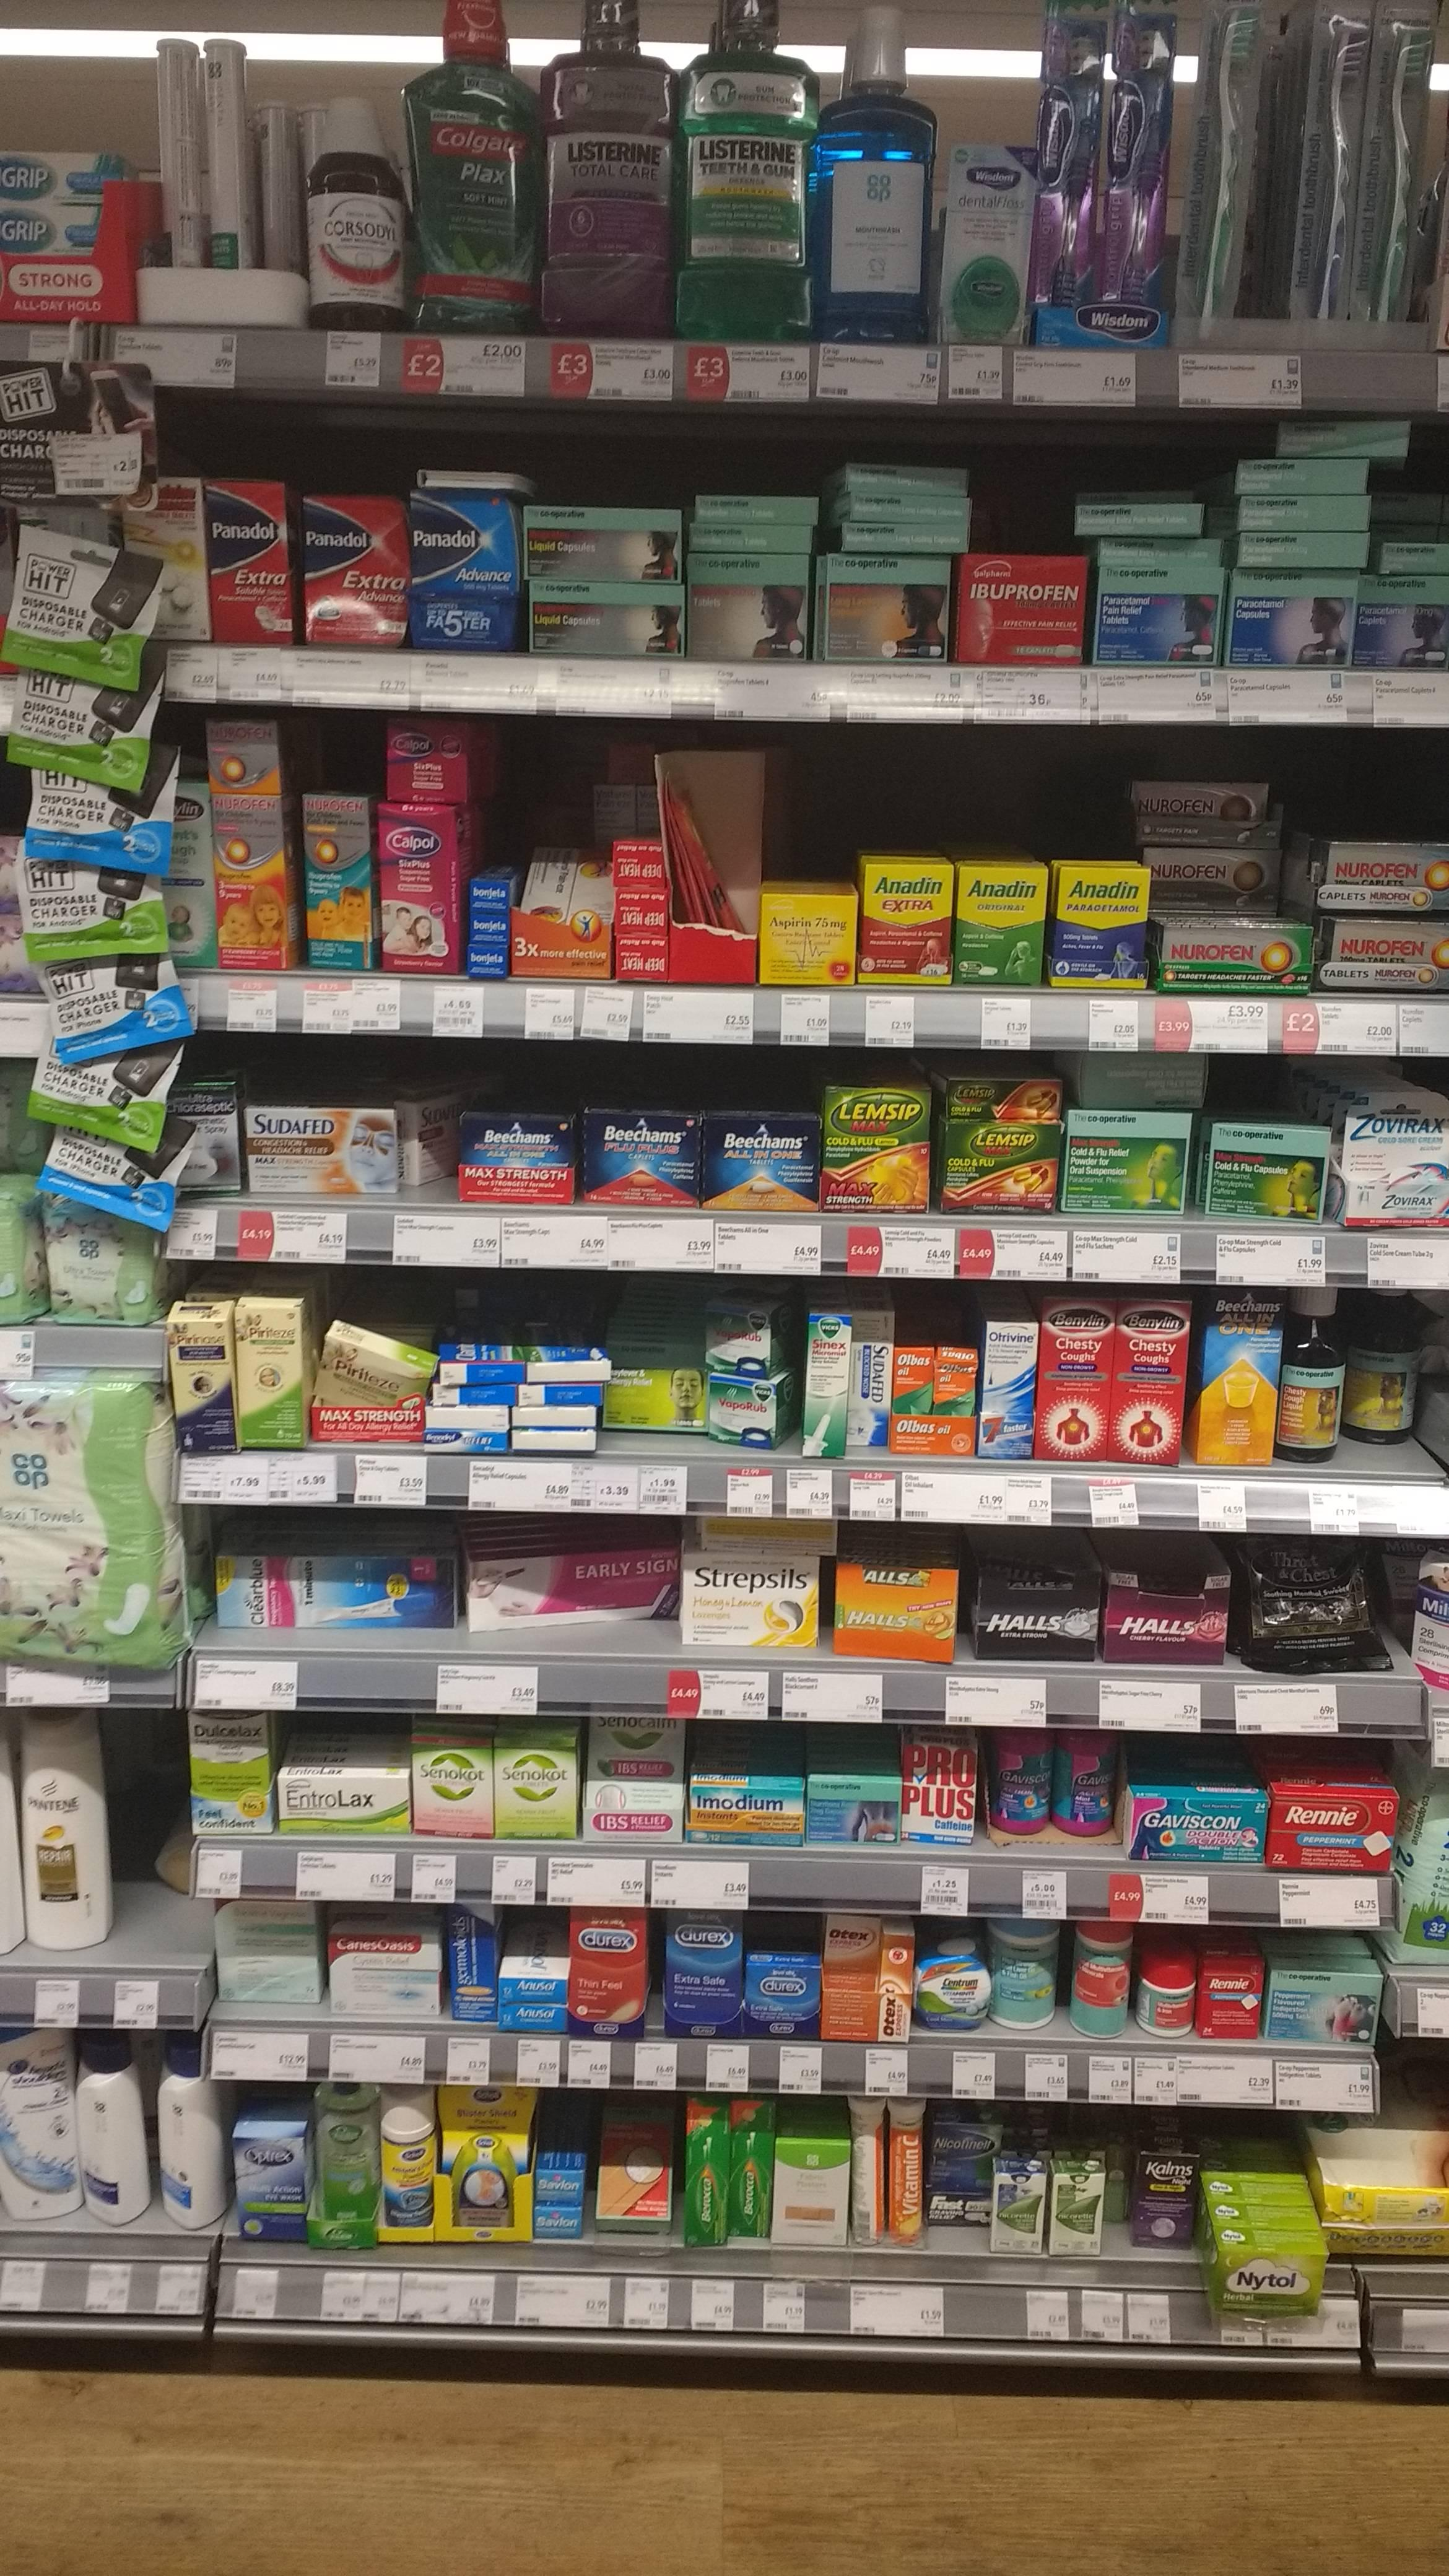misalignment: (1233, 414, 1421, 563), (462, 1537, 678, 1647), (1200, 2167, 1334, 2323), (688, 1293, 789, 1461), (833, 449, 978, 554), (658, 770, 750, 932), (1063, 474, 1226, 563), (315, 1307, 433, 1412), (1067, 1053, 1221, 1115), (149, 1764, 200, 1923), (407, 456, 547, 497), (395, 1100, 456, 1189)
